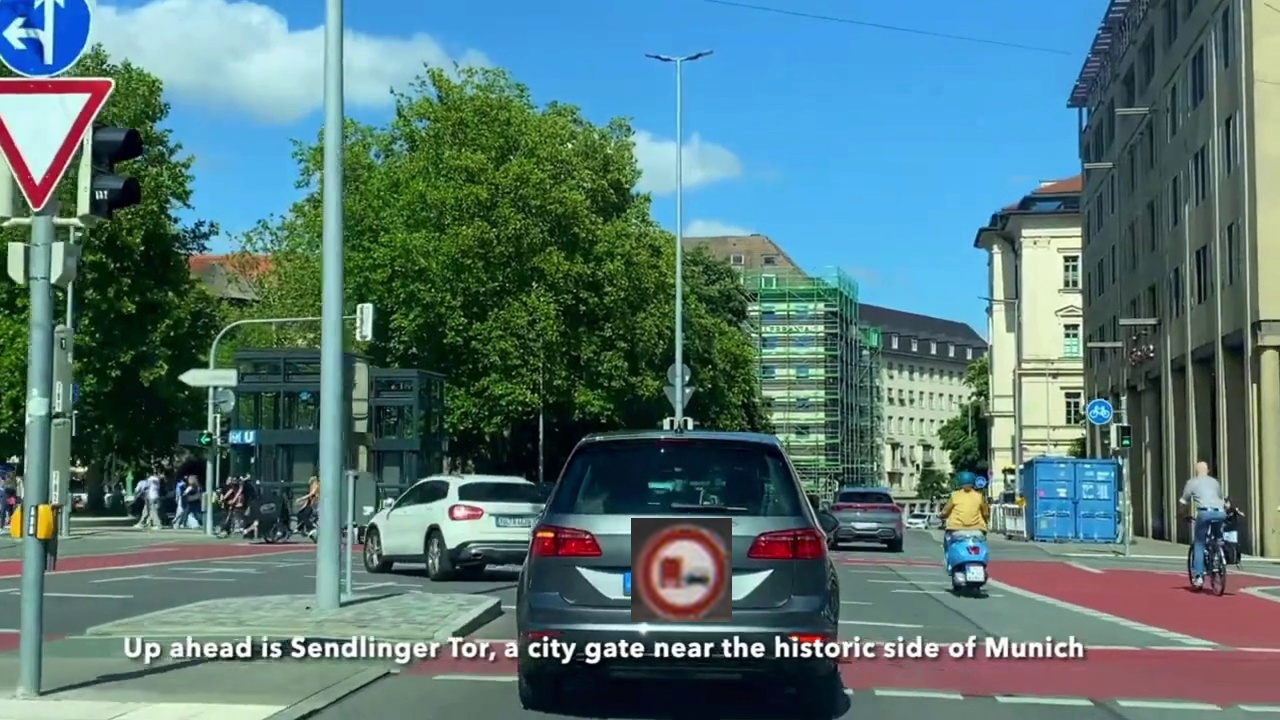No pass >3.5t: (631, 518, 732, 622)
